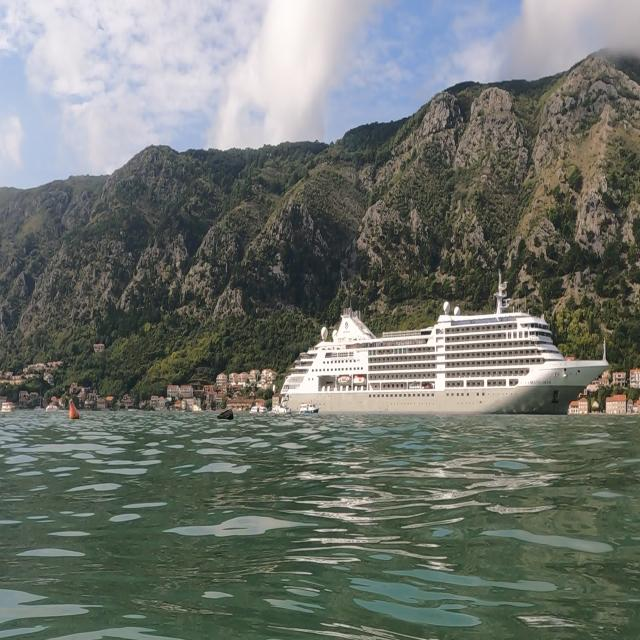boat: (271, 266, 610, 417)
buoy: (215, 401, 238, 429), (64, 397, 84, 429)
